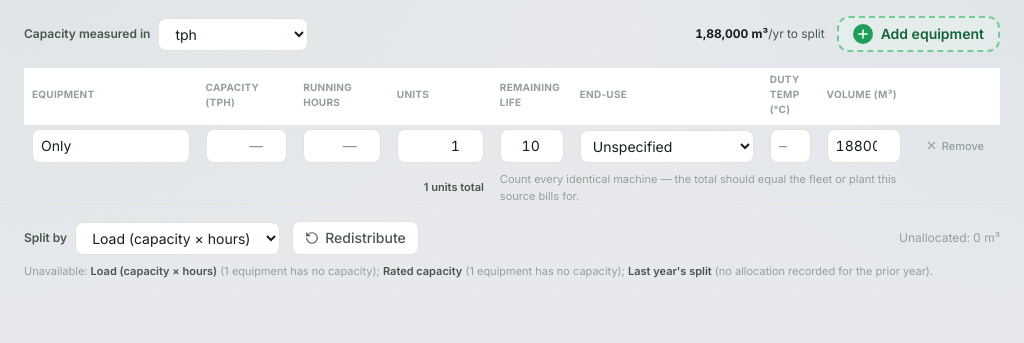
it: EquipmentSection › blocks deleting the last equipment (D8)
Click the button "Remove".
click(954, 146)  # box [917, 134, 992, 158]
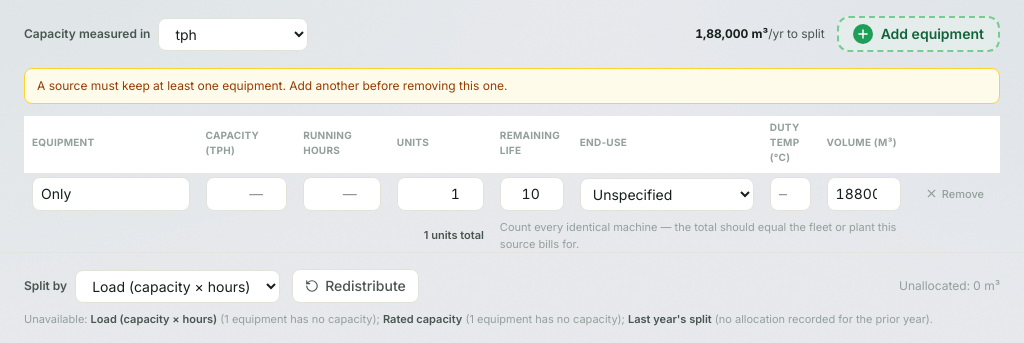
Expected: the message shows "at least one", [37, 78, 508, 93]
